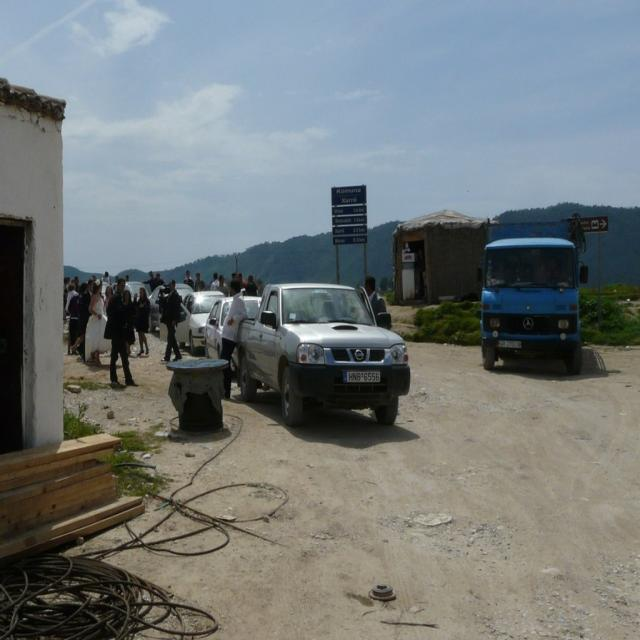car: (216, 276, 364, 423)
